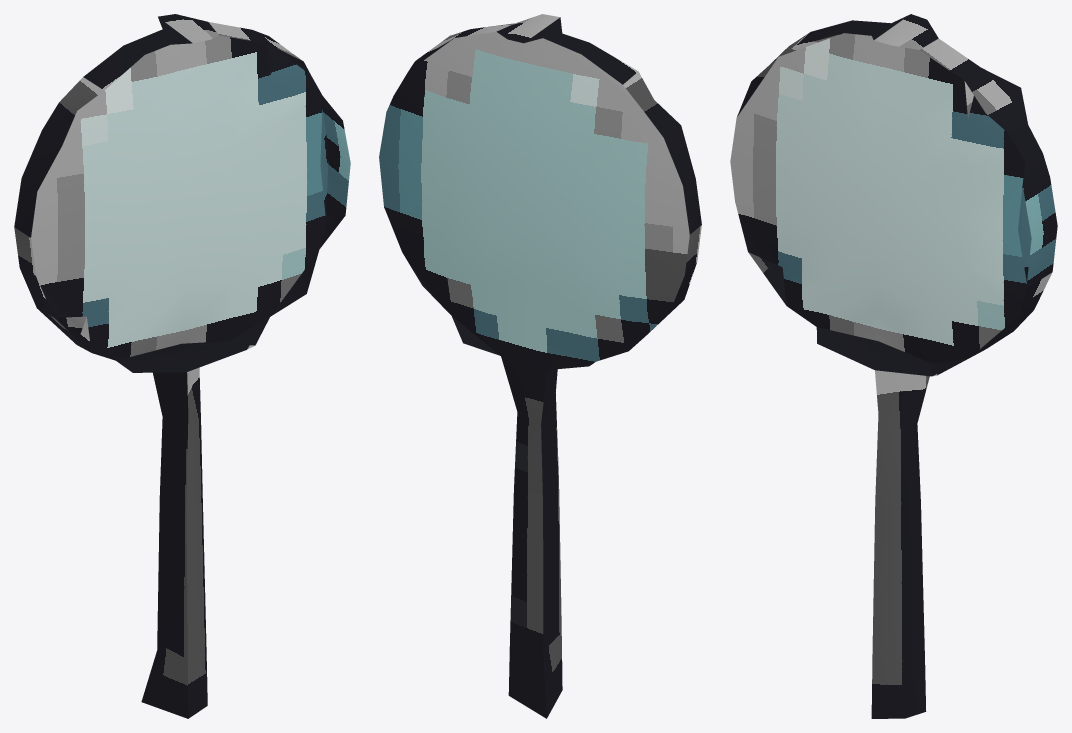
Rendered from magnifying_glass_01.glb.
The picture shows the model from 3 angles, left to right: view 1: azimuth 30°, elevation 25°; view 2: azimuth 150°, elevation 25°; view 3: azimuth 330°, elevation 25°; orthographic projection.
Parts seen in each view (by area): view 1: mesh; view 2: mesh; view 3: mesh.
Boxes of the visible parts, x1=… form: mesh: x1=14, y1=14, x2=350, y2=718; mesh: x1=379, y1=14, x2=701, y2=718; mesh: x1=730, y1=14, x2=1057, y2=718.
Size of the model in its own units: 0.1315 by 0.2716 by 0.0266.
1 material, 1 textured.
